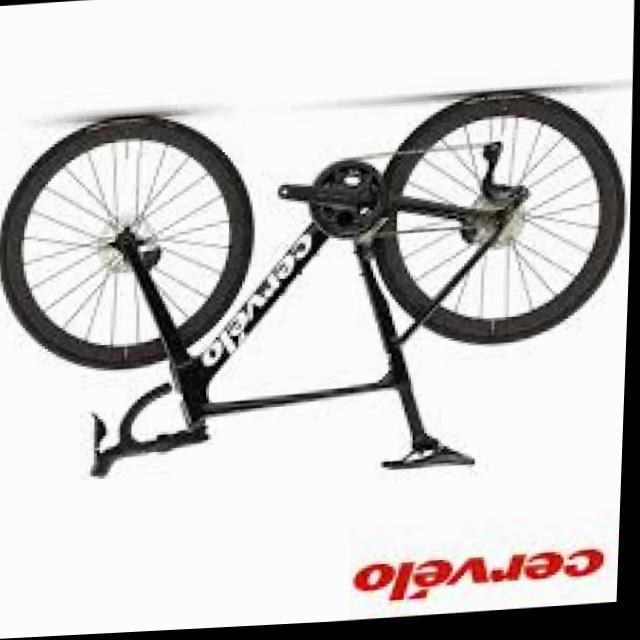road-bike: (0, 84, 634, 501)
